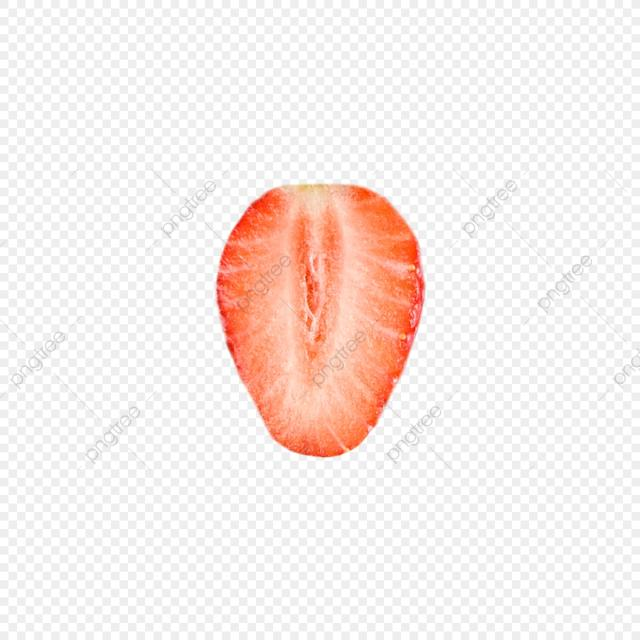strawberry: (211, 160, 445, 477)
